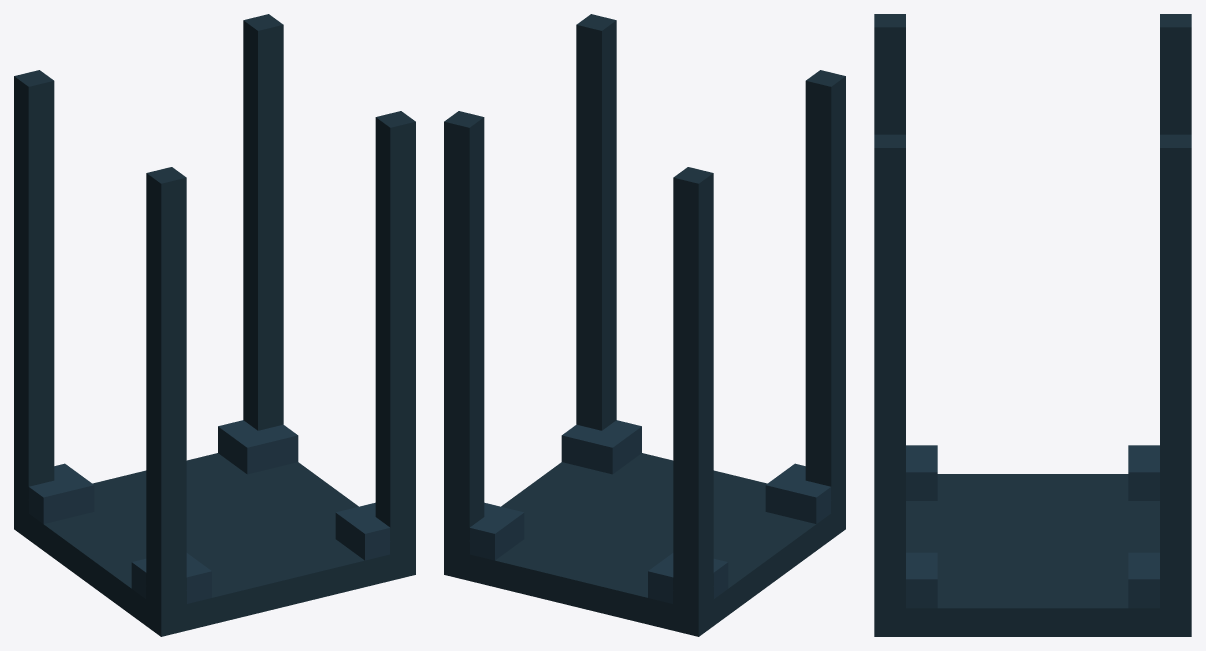
Rendered from artefact_legs.fbx.
3 views of the same model, side by side, from view 1: azimuth 30°, elevation 25°; view 2: azimuth 150°, elevation 25°; view 3: azimuth 270°, elevation 25° (orthographic). The views are drawn at different scales.
Parts seen in each view (by area): view 1: artifact_legs; view 2: artifact_legs; view 3: artifact_legs.
Boxes of the visible parts, x1,y1,x2,y2 form: artifact_legs: (14,14,415,636); artifact_legs: (444,14,845,636); artifact_legs: (874,14,1191,636).
Bounding box in the file's own units: 10 × 17 × 10.
Materials: 1 (1 with a texture image).
